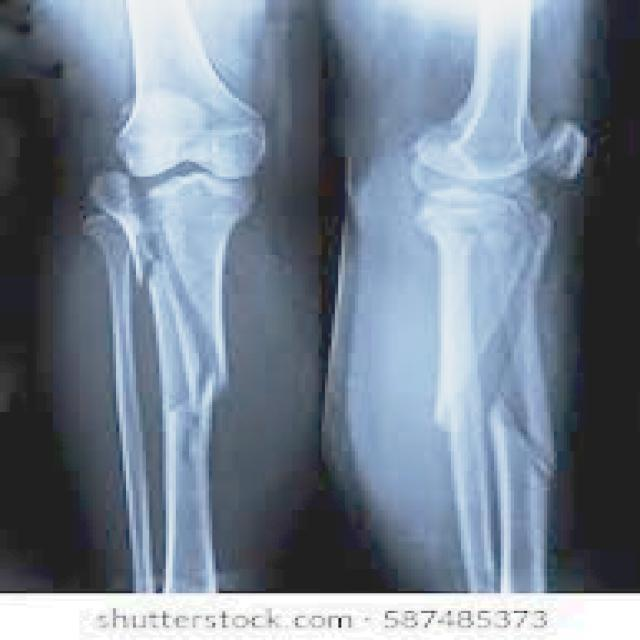Comminuted Fracture: (482, 392, 567, 479), (157, 344, 249, 421), (116, 248, 186, 298)
